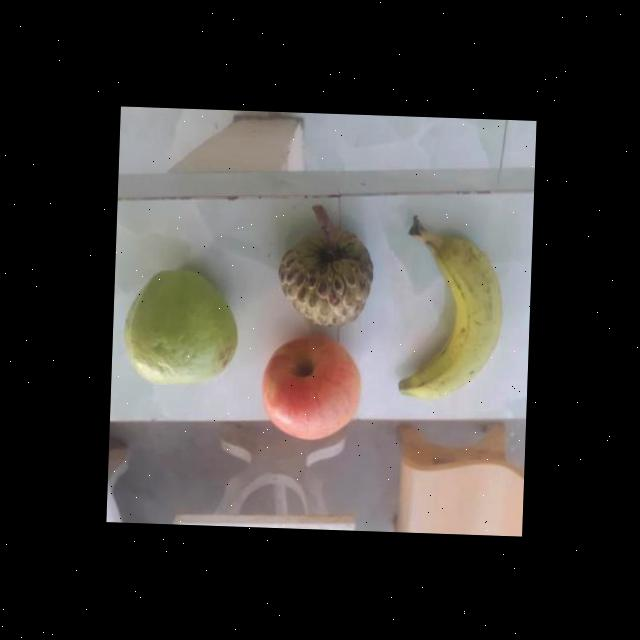Sakya fruit: (270, 218, 372, 324)
apple: (392, 226, 501, 400)
guava: (115, 266, 234, 380)
pear: (253, 332, 364, 440)
